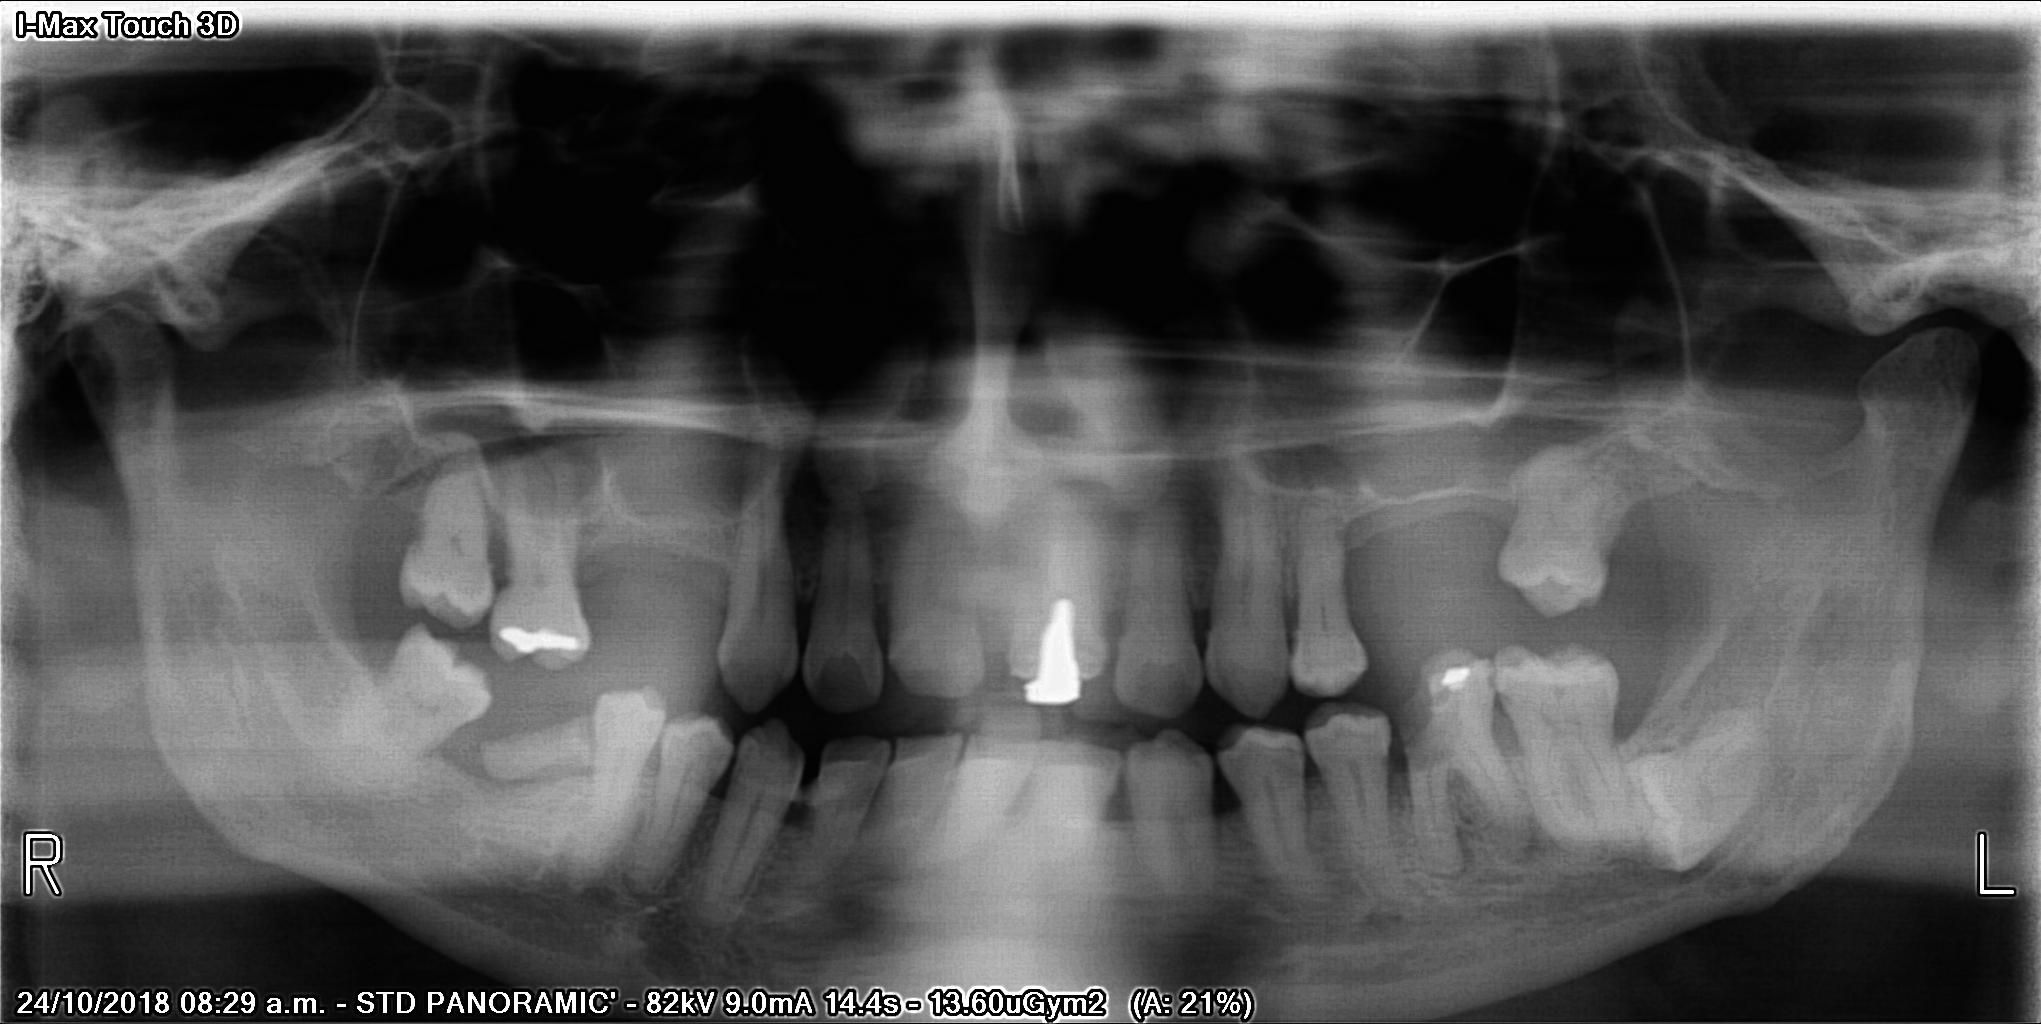Çürük: (1022, 600, 1094, 711), (495, 607, 582, 666), (1436, 660, 1474, 697)
Çürük Bölgesi: (1391, 657, 1434, 755)
